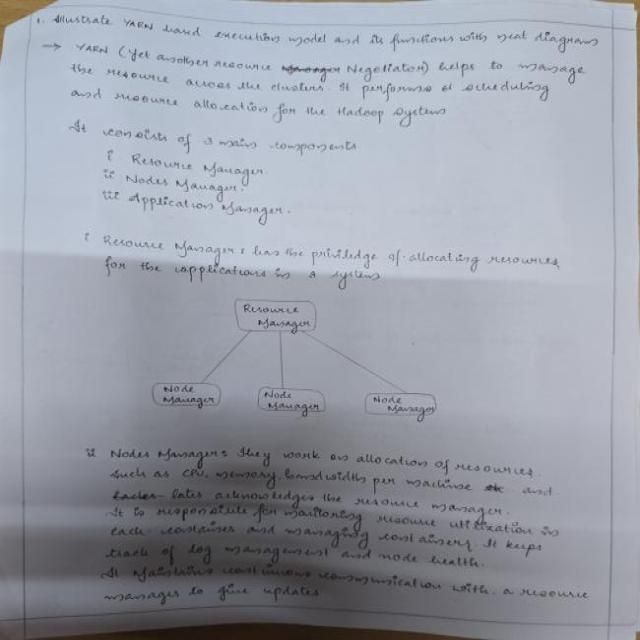Figure Detection - v3 Dataset Version2: (123, 288, 472, 429)
